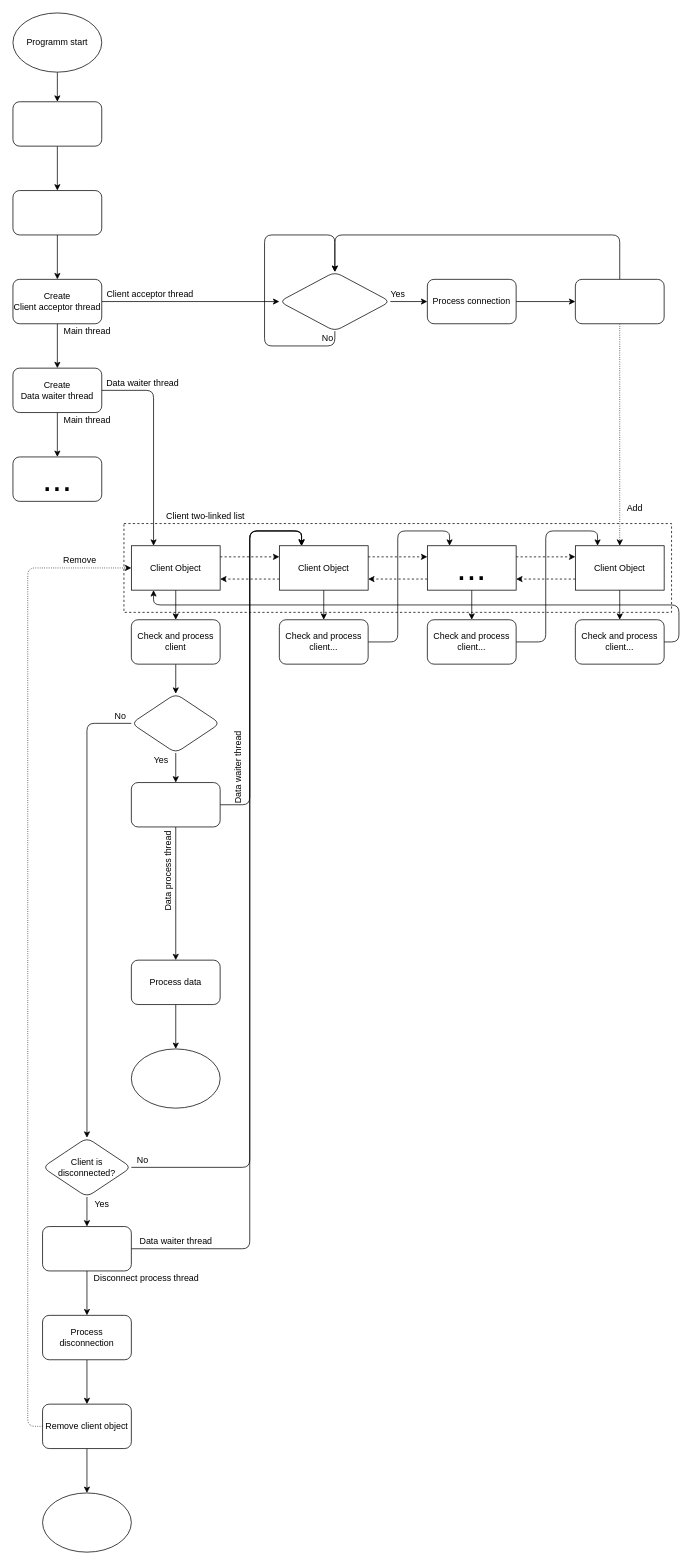
This 698x1565 diagram has some shape labels left out. The shapes that lost their labels are listed below. From the top down, each one's box as (x1, y1, x2, y2) in pixels, then its label:
(12, 101, 102, 146): Initialize server
(12, 190, 102, 235): Start server
(279, 271, 390, 331): Has a new client connected to the server?
(575, 279, 664, 324): Add to client list
(131, 693, 220, 753): Is n ew data arrived?
(131, 782, 220, 827): Create new Data process thread
(131, 1048, 220, 1108): Destroy Data process thread
(42, 1226, 131, 1271): Create new Disconnect process thread
(42, 1492, 131, 1552): Destroy Disconnect process thread
